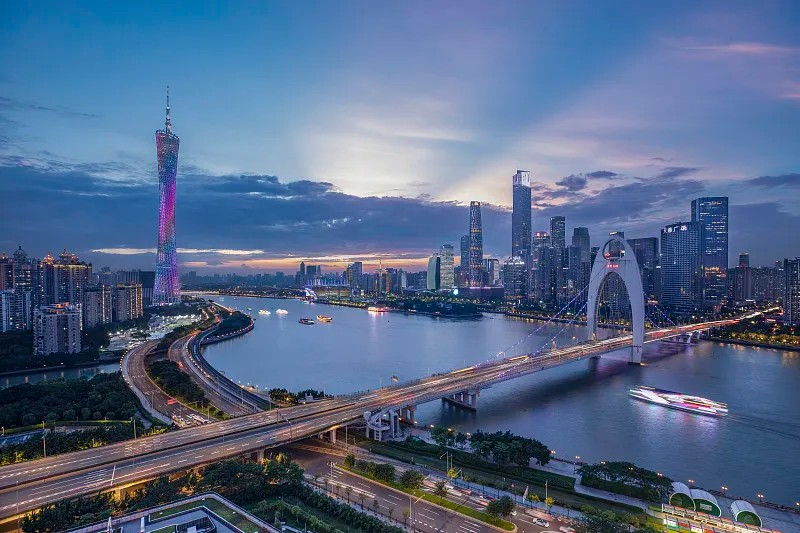Canton: (155, 83, 182, 310)
